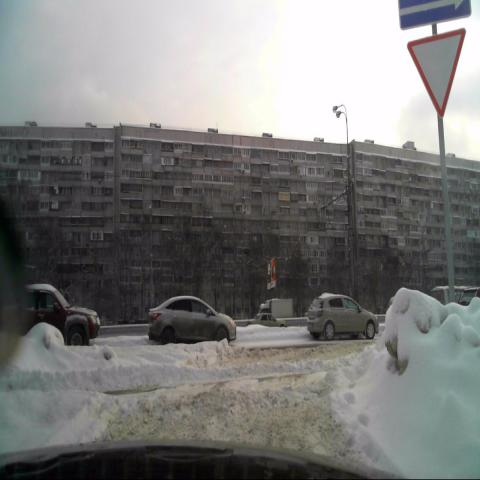2_4: (408, 29, 466, 118)
